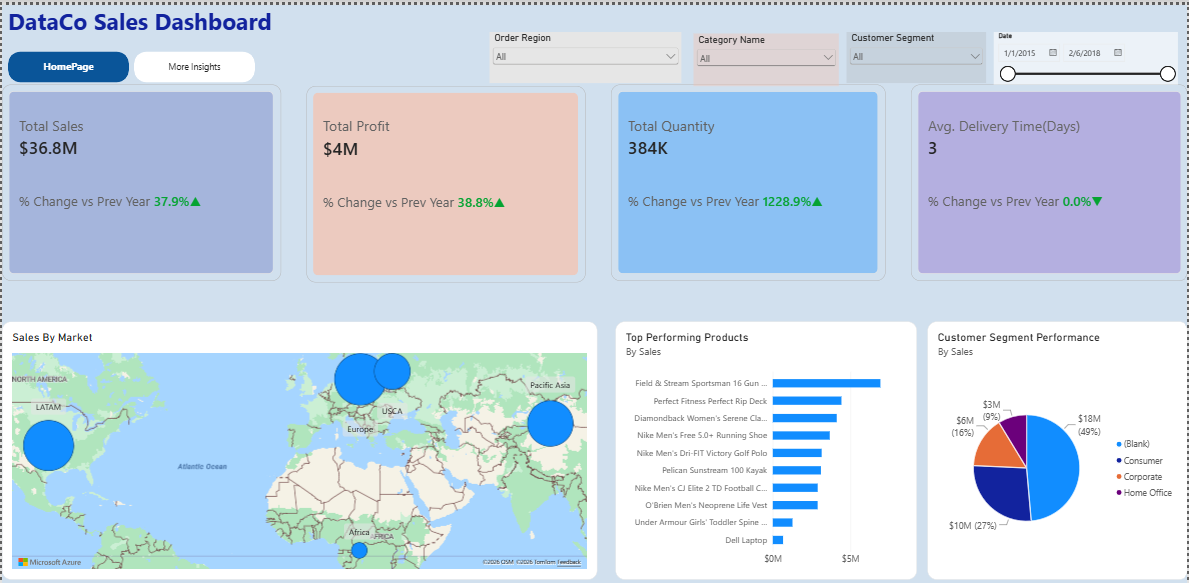

The dashboard page shown, as its layout file describes it:
{"tool":"powerbi","page":{"name":"HomePage","canvas":[1920,1080],"ordinal":0},"visuals":[{"type":"cardVisual","fields":{"Data":["_Measures.Total Profit"]},"box":[492.7,131.2,451.8,318.2],"z":0},{"type":"cardVisual","fields":{"Data":["_Measures.Total Sales"]},"box":[0,128.7,451.8,318.2],"z":1000},{"type":"cardVisual","fields":{"Data":["_Measures.Total Quantity"]},"box":[985.3,128.7,444.5,318.2],"z":2000},{"type":"cardVisual","fields":{"Data":["_Measures.Avg. Delivery Time"]},"box":[1470.7,128.7,449.3,318.2],"z":3000},{"type":"azureMap","title":"Sales By Market","fields":{"Category":["DimLocation.Market"],"Size":["Sum(FactSales.Sales)"]},"box":[0,512.5,964.3,417.8],"z":4000},{"type":"clusteredBarChart","title":"Top Performing Products","fields":{"Category":["DimProduct.Product Name"],"Y":["Sum(FactSales.Sales)"]},"box":[992.2,512.5,488.2,417.8],"z":5000},{"type":"pieChart","title":"Customer Segment Performance","fields":{"Category":["DimCustomer.Customer Segment"],"Y":["Sum(FactSales.Sales)"]},"box":[1497.4,512.5,422.6,417.8],"z":6000},{"type":"textbox","box":[9.7,0,459.1,65.6],"z":7000},{"type":"slicer","fields":{"Values":["DimLocation.Order Region"]},"box":[789.4,43.7,310.9,82.6],"z":8000},{"type":"slicer","fields":{"Values":["DimDate.Date"]},"box":[1605.5,43.7,298.7,85],"z":9000},{"type":"slicer","fields":{"Values":["DimProduct.Category Name"]},"box":[1119.7,46.1,235.6,85],"z":10000},{"type":"slicer","fields":{"Values":["DimCustomer.Customer Segment"]},"box":[1367.4,43.7,225.9,82.6],"z":11000},{"type":"pageNavigator","box":[9.7,75.3,400,50],"z":11001}]}

Visuals, with their boxes on the page's 1920x1080 design canvas (x1, y1, x2, y2). These are canvas units, not pixel positions in the 1189x583 screenshot, which may show the page scaled, cropped or inside an application window:
cardVisual - _Measures.Total Profit: (493, 131, 944, 449)
cardVisual - _Measures.Total Sales: (0, 129, 452, 447)
cardVisual - _Measures.Total Quantity: (985, 129, 1430, 447)
cardVisual - _Measures.Avg. Delivery Time: (1471, 129, 1920, 447)
"Sales By Market" azureMap: (0, 512, 964, 930)
"Top Performing Products" clusteredBarChart: (992, 512, 1480, 930)
"Customer Segment Performance" pieChart: (1497, 512, 1920, 930)
textbox: (10, 0, 469, 66)
slicer - DimLocation.Order Region: (789, 44, 1100, 126)
slicer - DimDate.Date: (1606, 44, 1904, 129)
slicer - DimProduct.Category Name: (1120, 46, 1355, 131)
slicer - DimCustomer.Customer Segment: (1367, 44, 1593, 126)
pageNavigator: (10, 75, 410, 125)
